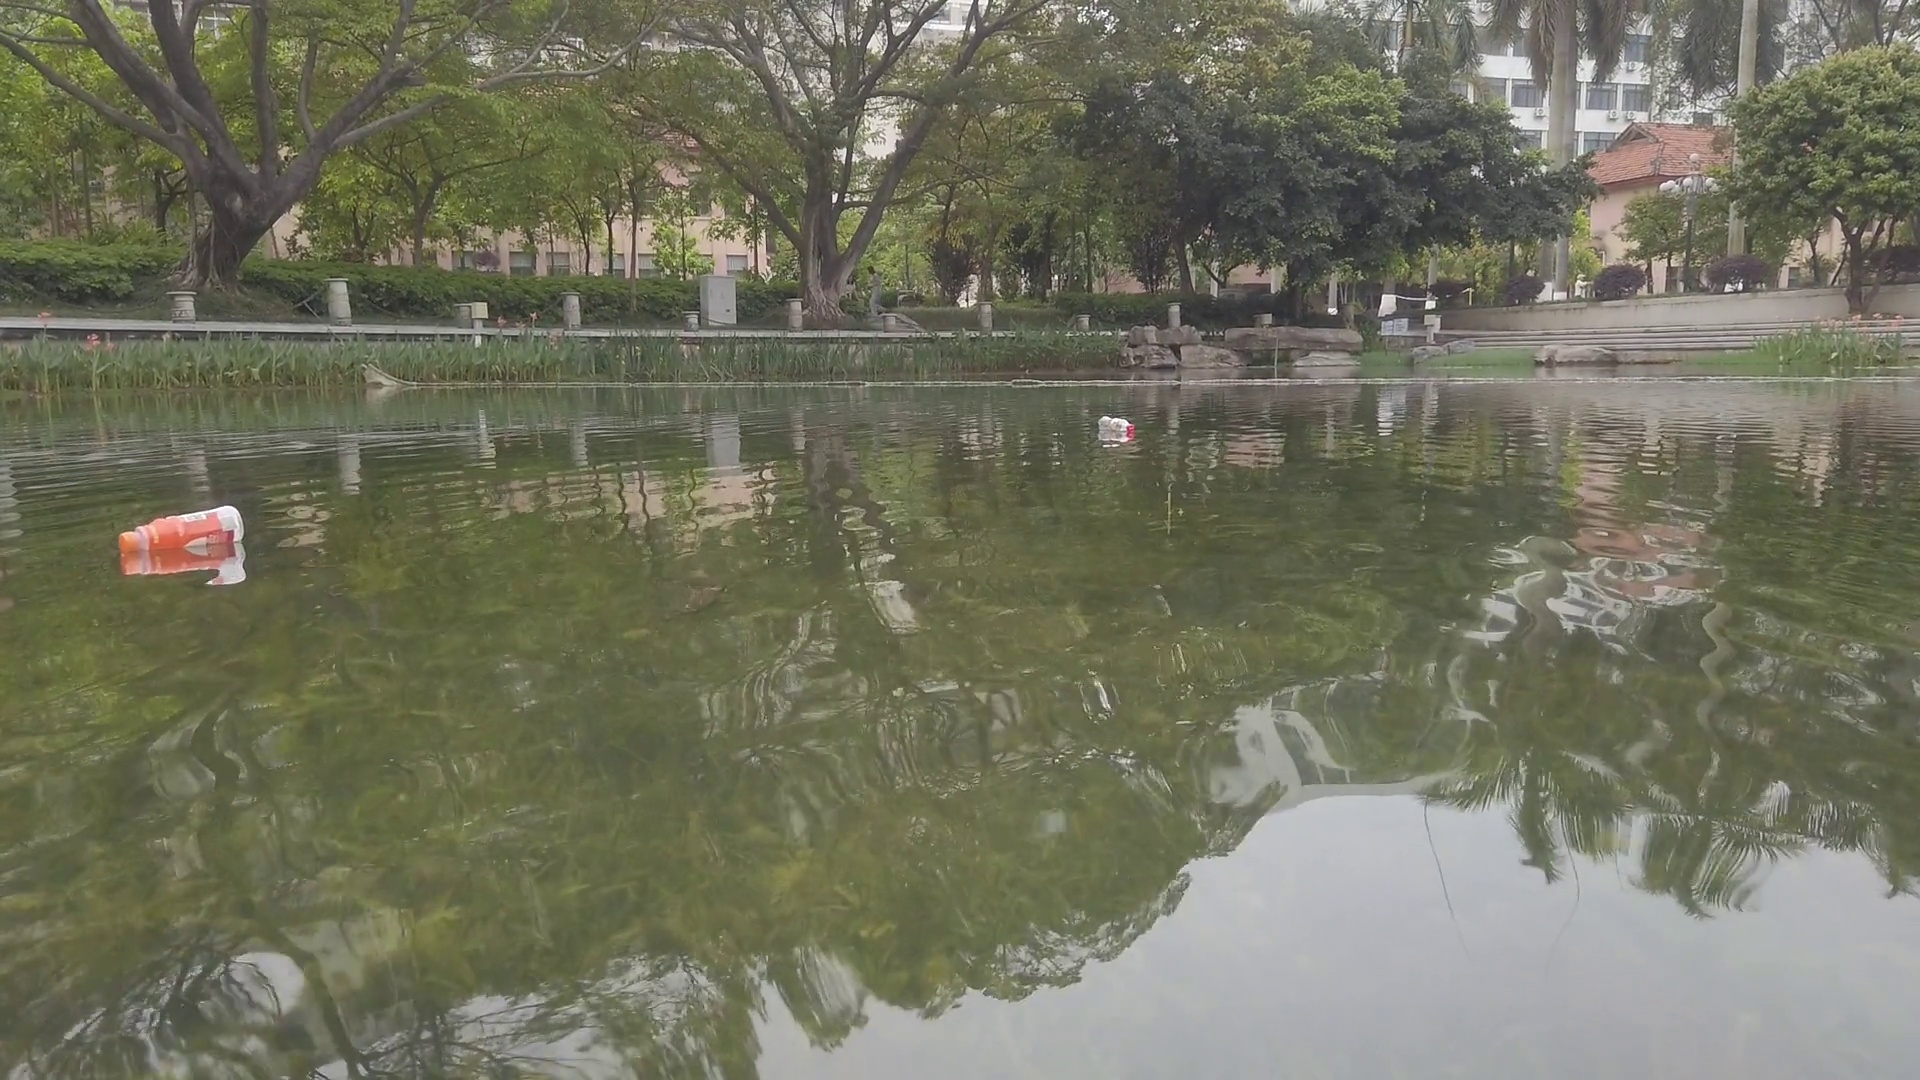bottle: (119, 504, 245, 553), (1098, 411, 1134, 436)
